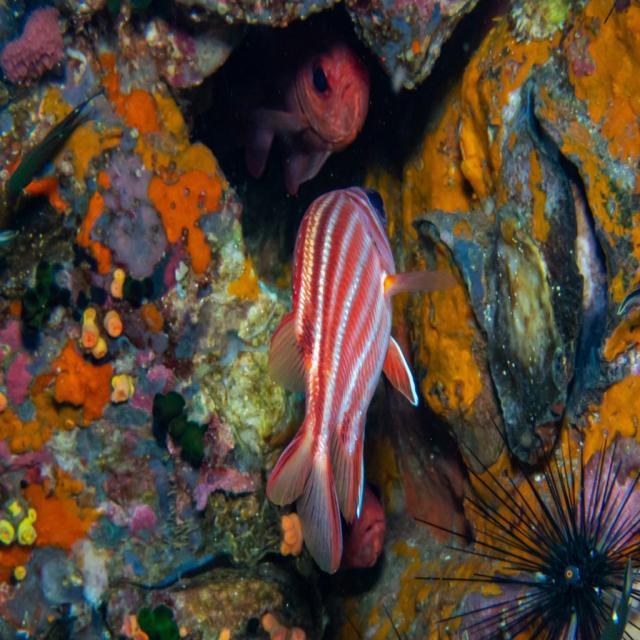Asker Baligi: (243, 154, 462, 575)
